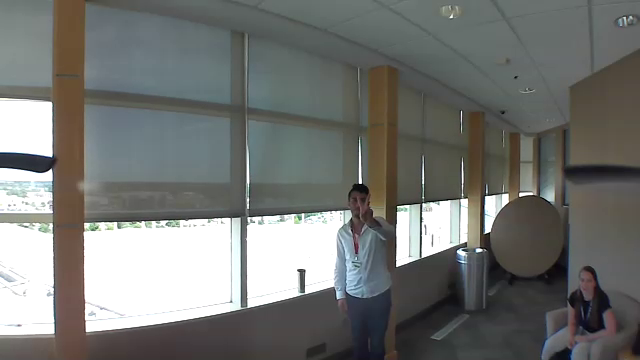peace: (349, 190, 377, 224)
